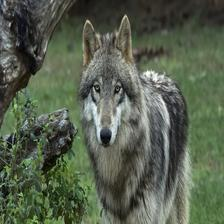WOLF: (78, 16, 189, 224)
